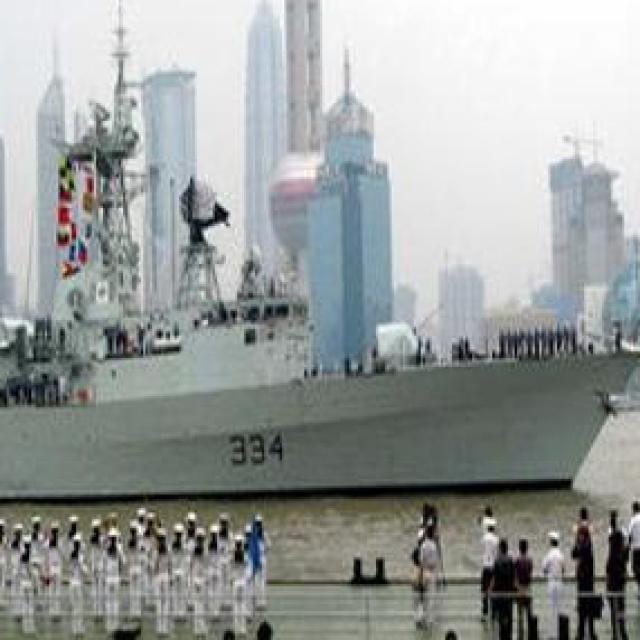navalvessels: (0, 69, 633, 487)
